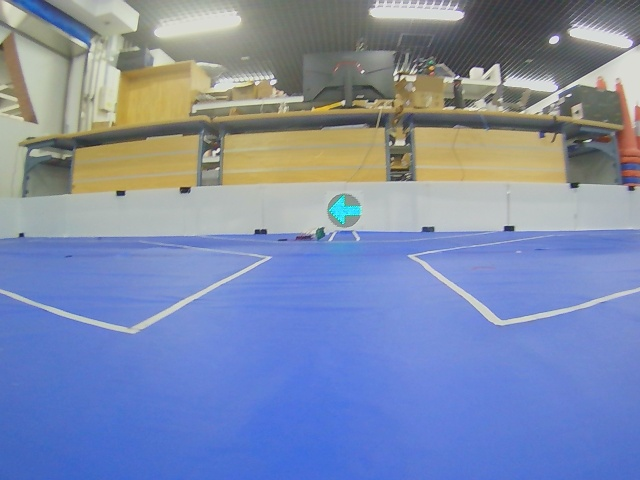left_green: (328, 194, 362, 226)
